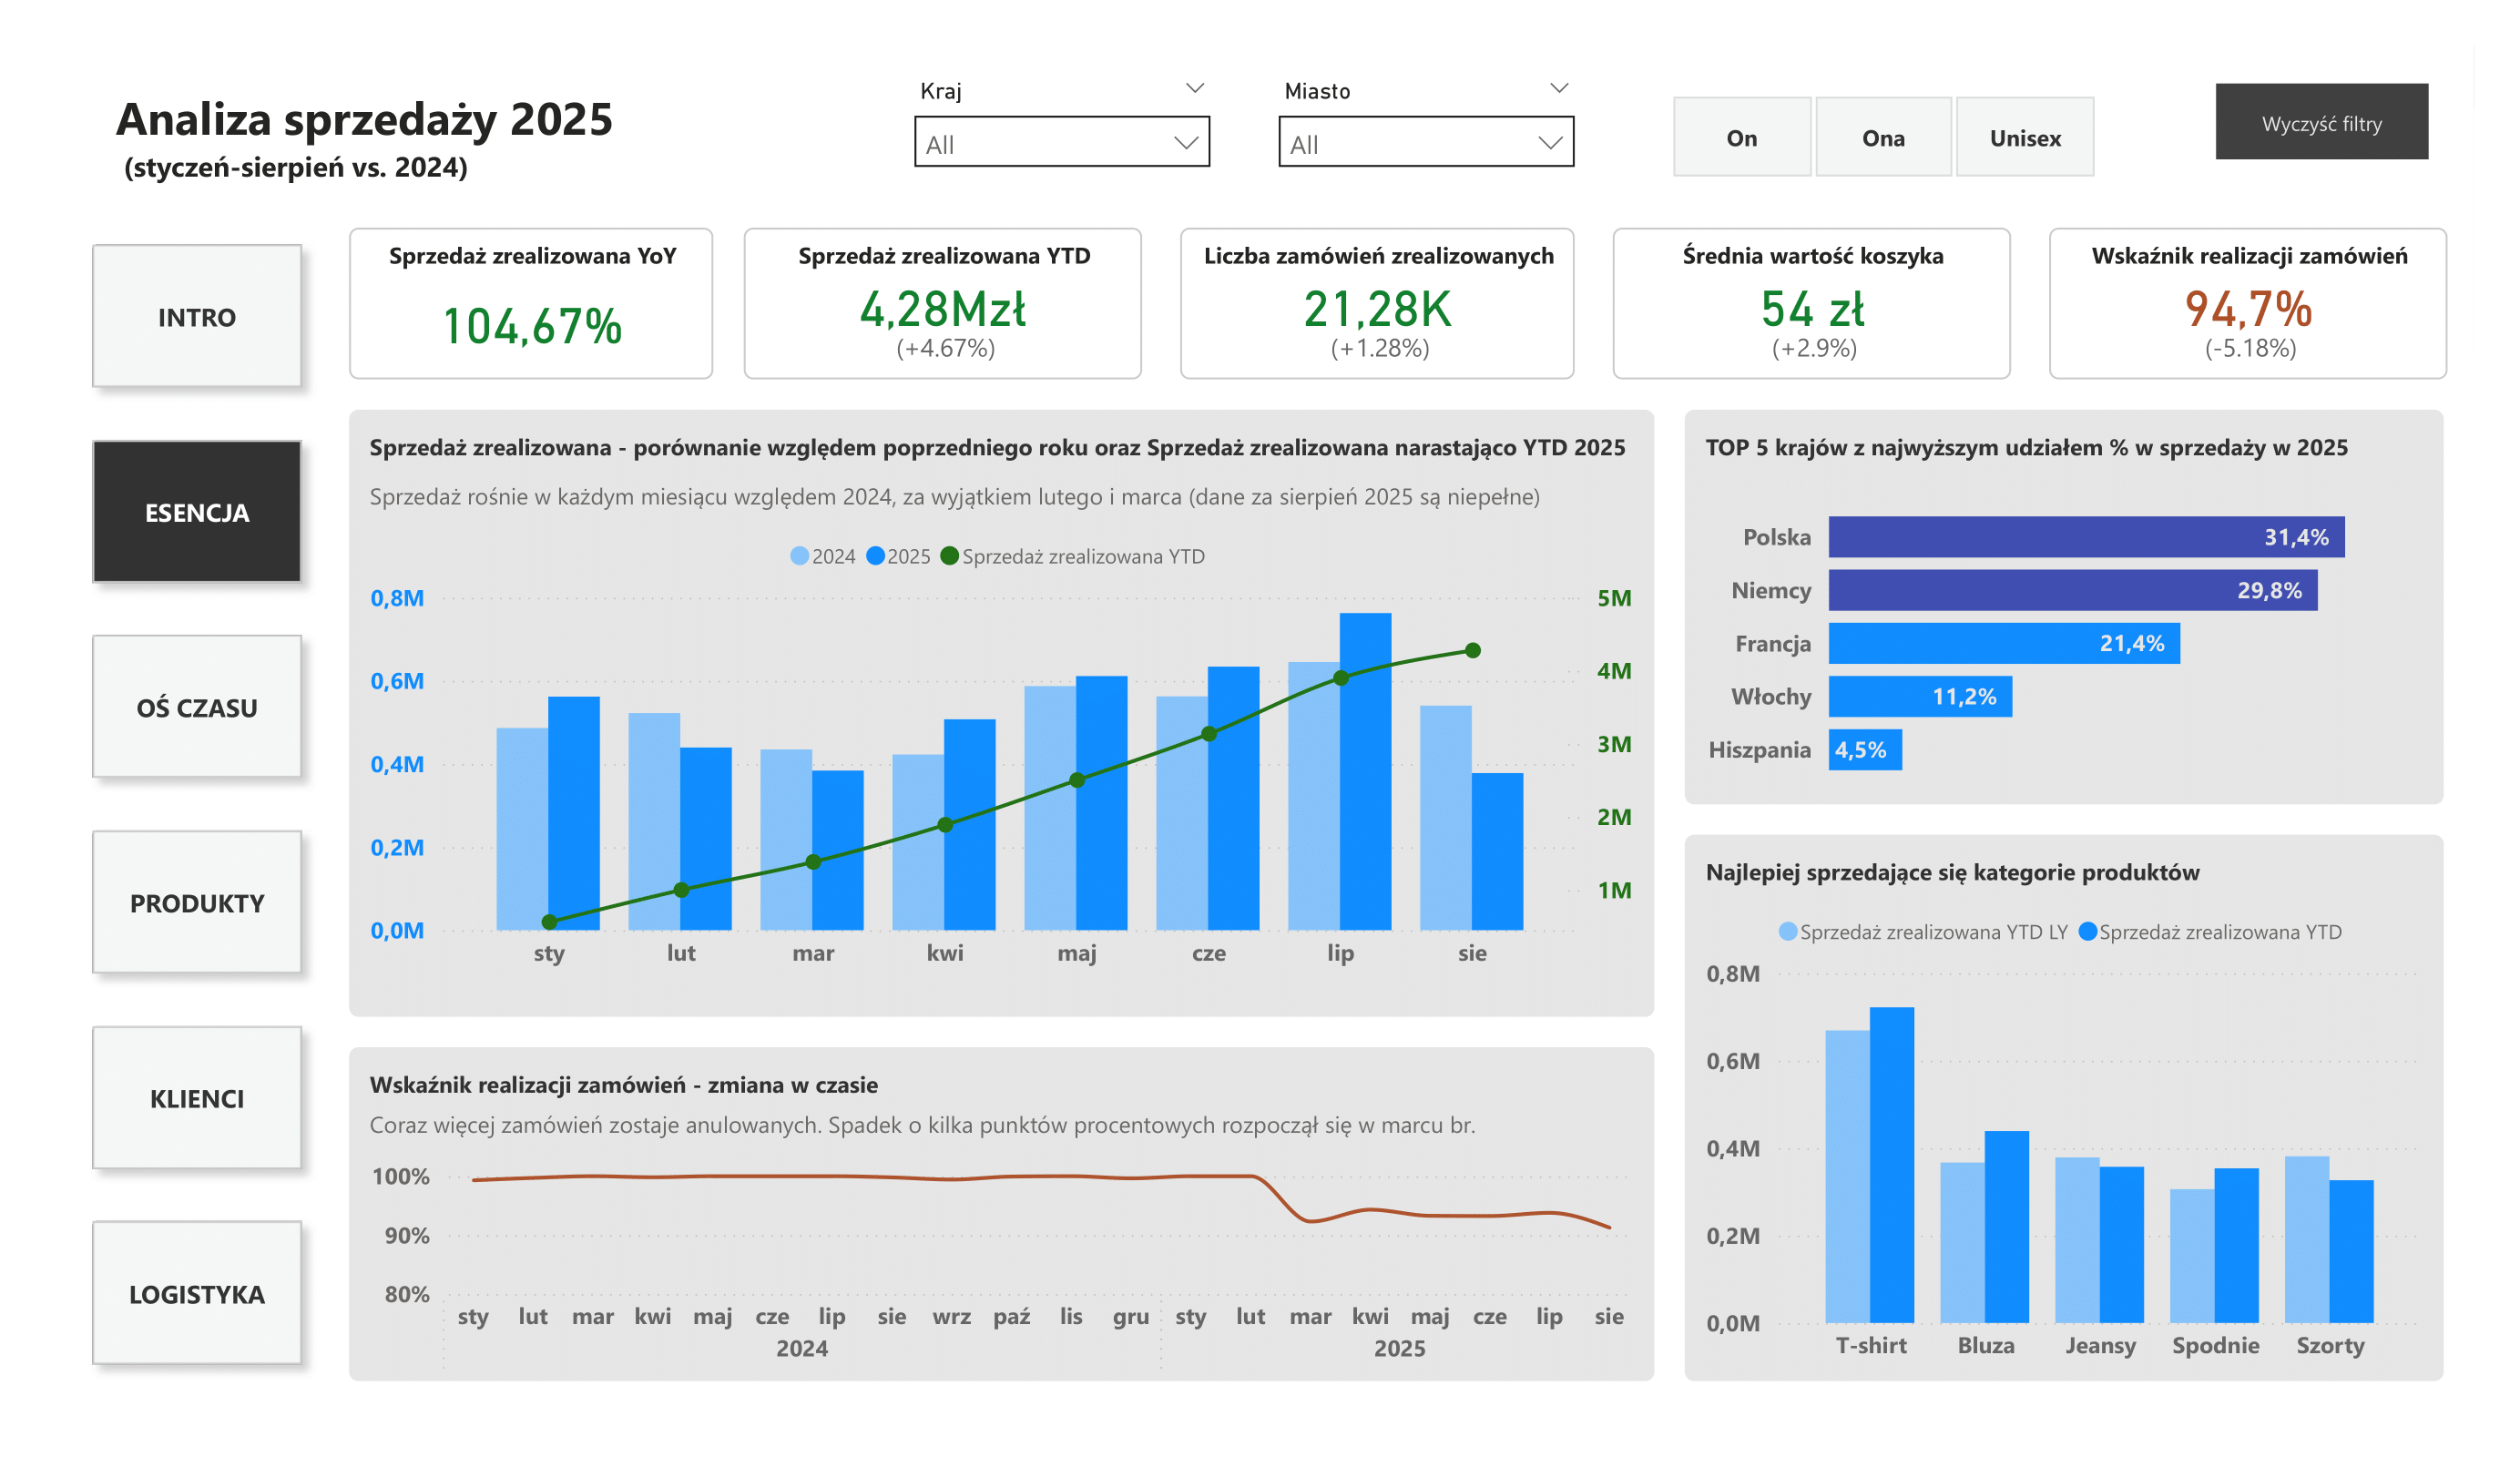

The page's visual inventory and layout, read from the dashboard file:
{"tool":"powerbi","page":{"name":"ESENCJA","canvas":[1280,720],"ordinal":1},"visuals":[{"type":"kpi","title":"Wskaźnik realizacji zamówień","fields":{"Indicator":["Miary.Wskaznik realizacji zamowien YTD"],"Goal":["Miary.Wskaznik realizacji zamowień YTD LY czesciowy"],"TrendLine":["dKalendarz.Date Hierarchy.Rok"]},"box":[1056,96,210,80],"z":0,"group":"g3"},{"type":"lineChart","title":"Wskaźnik realizacji zamówień - zmiana w czasie","fields":{"Category":["dKalendarz.Date Hierarchy.Rok","dKalendarz.Date Hierarchy.Nazwa miesiąca"],"Y":["Miary.Wskaznik realizacji zamowien"]},"box":[160,528,688,176],"z":0},{"type":"card","title":"Sprzedaż zrealizowana YoY","fields":{"Values":["Miary.Sprzedaz zrealizowana YoY %"]},"box":[160,96,192,80],"z":1000,"group":"g2"},{"type":"clusteredColumnChart","title":"Najlepiej sprzedające się kategorie produktów","fields":{"Category":["dProdukt.Kategoria"],"Y":["Miary.Sprzedaz zrealizowana YTD LY","Miary.Sprzedaz zrealizowana YTD"]},"box":[864,416,400,288],"z":1000},{"type":"kpi","title":"Sprzedaż zrealizowana YTD","fields":{"Goal":["Miary.Sprzedaz zrealizowana YTD LY czesciowy"],"TrendLine":["dKalendarz.Date Hierarchy.Rok"],"Indicator":["Miary.Sprzedaż zrealizowana YTD"]},"box":[368,96,210,80],"z":2000,"group":"g3"},{"type":"barChart","title":"TOP 5 krajów z najwyższym udziałem % w sprzedaży w 2025","fields":{"Category":["dMiasto.Kraj"],"Y":["Miary.Sprzedaż % kraju"]},"box":[864,192,400,208],"z":2000},{"type":"textbox","box":[32,16,320,64],"z":3000},{"type":"slicer","fields":{"Values":["dProdukt.Dział"]},"box":[832,20,272,56],"z":3000,"group":"g1"},{"type":"group","id":"g1","title":"Group 2","box":[448,12,816,64],"z":4000},{"type":"pageNavigator","box":[16,96,128,608],"z":5000},{"type":"slicer","fields":{"Values":["dMiasto.Kraj"]},"box":[448,12,176,56],"z":6000,"group":"g1"},{"type":"group","id":"g2","title":"Group 3","box":[160,96,1104,80],"z":6000},{"type":"group","id":"g3","title":"Group 1","box":[368,96,896,80],"z":6000,"group":"g2"},{"type":"lineClusteredColumnComboChart","title":"Sprzedaż zrealizowana - porównanie względem poprzedniego roku oraz Sprzedaż zrealizowana narastająco YTD 2025","fields":{"Y2":["Miary.Sprzedaz zrealizowana YTD"],"Y":["Miary.Sprzedaż zrealizowana"],"Category":["dKalendarz.Date Hierarchy.Nazwa miesiąca"],"Series":["dKalendarz.Rok"]},"box":[160,192,688,320],"z":7000},{"type":"slicer","fields":{"Values":["dMiasto.Miasto"]},"box":[640,12,176,56],"z":8000,"group":"g1"},{"type":"actionButton","box":[1144,20,112,40],"z":10000,"group":"g1"},{"type":"kpi","title":"Liczba zamówień zrealizowanych","fields":{"TrendLine":["dKalendarz.Date Hierarchy.Rok"],"Indicator":["Miary.Liczba zamowien sprzedanych YTD"],"Goal":["Miary.Liczba zamowien sprzedanych YTD LY czesciowy"]},"box":[598,96,208,80],"z":12000,"group":"g3"},{"type":"kpi","title":"Średnia wartość koszyka","fields":{"TrendLine":["dKalendarz.Date Hierarchy.Rok"],"Indicator":["Miary.Srednia wartosc zamowienia zrealizowanego YTD"],"Goal":["Miary.Srednia wartosc zamowienia zrealizowanego YTD LY czesciowy"]},"box":[826,96,210,80],"z":13000,"group":"g3"}]}

Visuals, with their boxes on the page's 1280x720 design canvas (x1, y1, x2, y2). These are canvas units, not pixel positions in the 2520x1457 screenshot, which may show the page scaled, cropped or inside an application window:
"Wskaźnik realizacji zamówień" kpi: locate(1056, 96, 1266, 176)
"Wskaźnik realizacji zamówień - zmiana w czasie" lineChart: locate(160, 528, 848, 704)
"Sprzedaż zrealizowana YoY" card: locate(160, 96, 352, 176)
"Najlepiej sprzedające się kategorie produktów" clusteredColumnChart: locate(864, 416, 1264, 704)
"Sprzedaż zrealizowana YTD" kpi: locate(368, 96, 578, 176)
"TOP 5 krajów z najwyższym udziałem % w sprzedaży w 2025" barChart: locate(864, 192, 1264, 400)
textbox: locate(32, 16, 352, 80)
slicer - dProdukt.Dział: locate(832, 20, 1104, 76)
"Group 2" group: locate(448, 12, 1264, 76)
pageNavigator: locate(16, 96, 144, 704)
slicer - dMiasto.Kraj: locate(448, 12, 624, 68)
"Group 3" group: locate(160, 96, 1264, 176)
"Group 1" group: locate(368, 96, 1264, 176)
"Sprzedaż zrealizowana - porównanie względem poprzedniego roku oraz Sprzedaż zrealizowana narastająco YTD 2025" lineClusteredColumnComboChart: locate(160, 192, 848, 512)
slicer - dMiasto.Miasto: locate(640, 12, 816, 68)
actionButton: locate(1144, 20, 1256, 60)
"Liczba zamówień zrealizowanych" kpi: locate(598, 96, 806, 176)
"Średnia wartość koszyka" kpi: locate(826, 96, 1036, 176)
